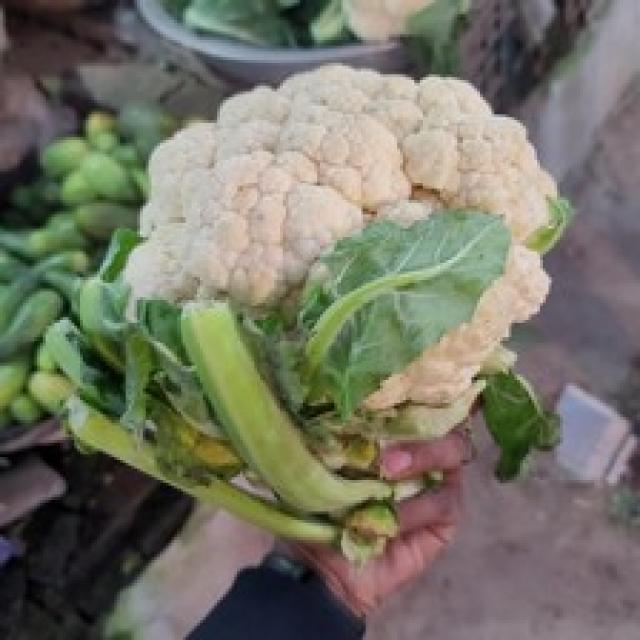Cauliflower: (48, 66, 555, 539)
